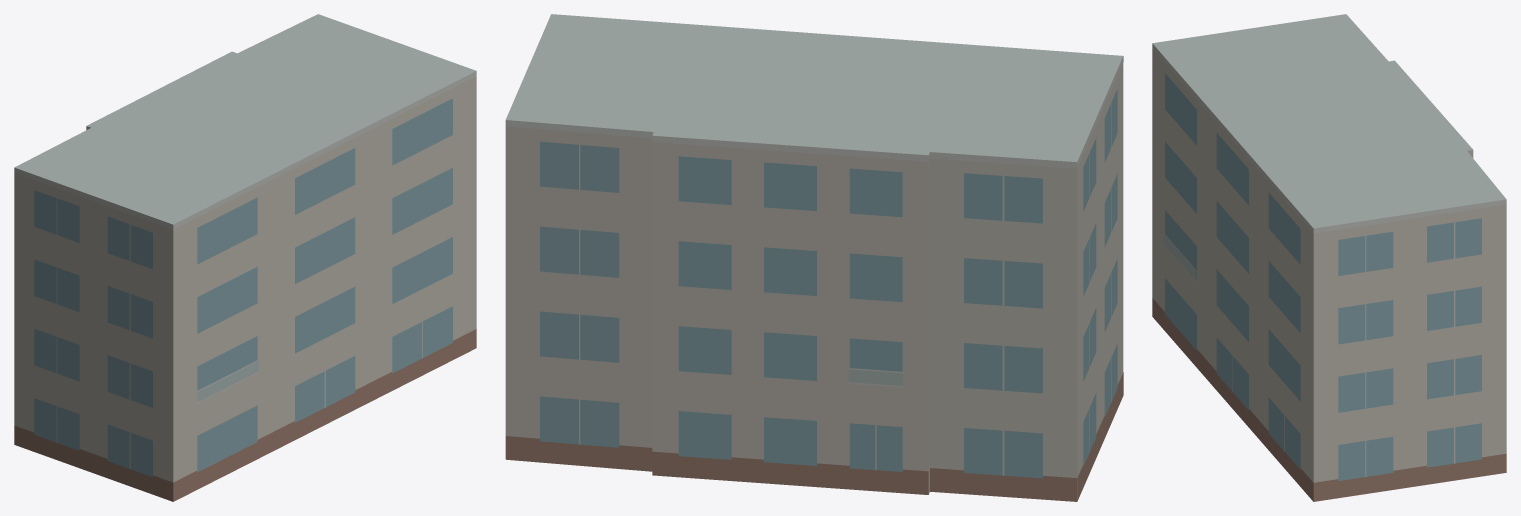
The model's file is survey-upis-32732737.glb.
The picture shows the model from 3 angles, left to right: view 1: azimuth 30°, elevation 25°; view 2: azimuth 150°, elevation 25°; view 3: azimuth 270°, elevation 25°; orthographic projection. The views are drawn at different scales.
Visible parts, largest first — view 1: survey-upis-32732737.tmp; view 2: survey-upis-32732737.tmp; view 3: survey-upis-32732737.tmp.
Boxes of the visible parts, x1,y1,x2,y2 form: survey-upis-32732737.tmp: [14, 14, 476, 501]; survey-upis-32732737.tmp: [505, 14, 1123, 501]; survey-upis-32732737.tmp: [1152, 14, 1506, 501].
Size of the model in its own units: 21.89 by 13 by 15.28.
